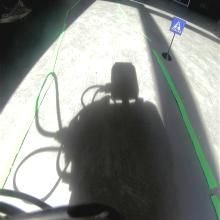crosswalk: (169, 16, 186, 36)
